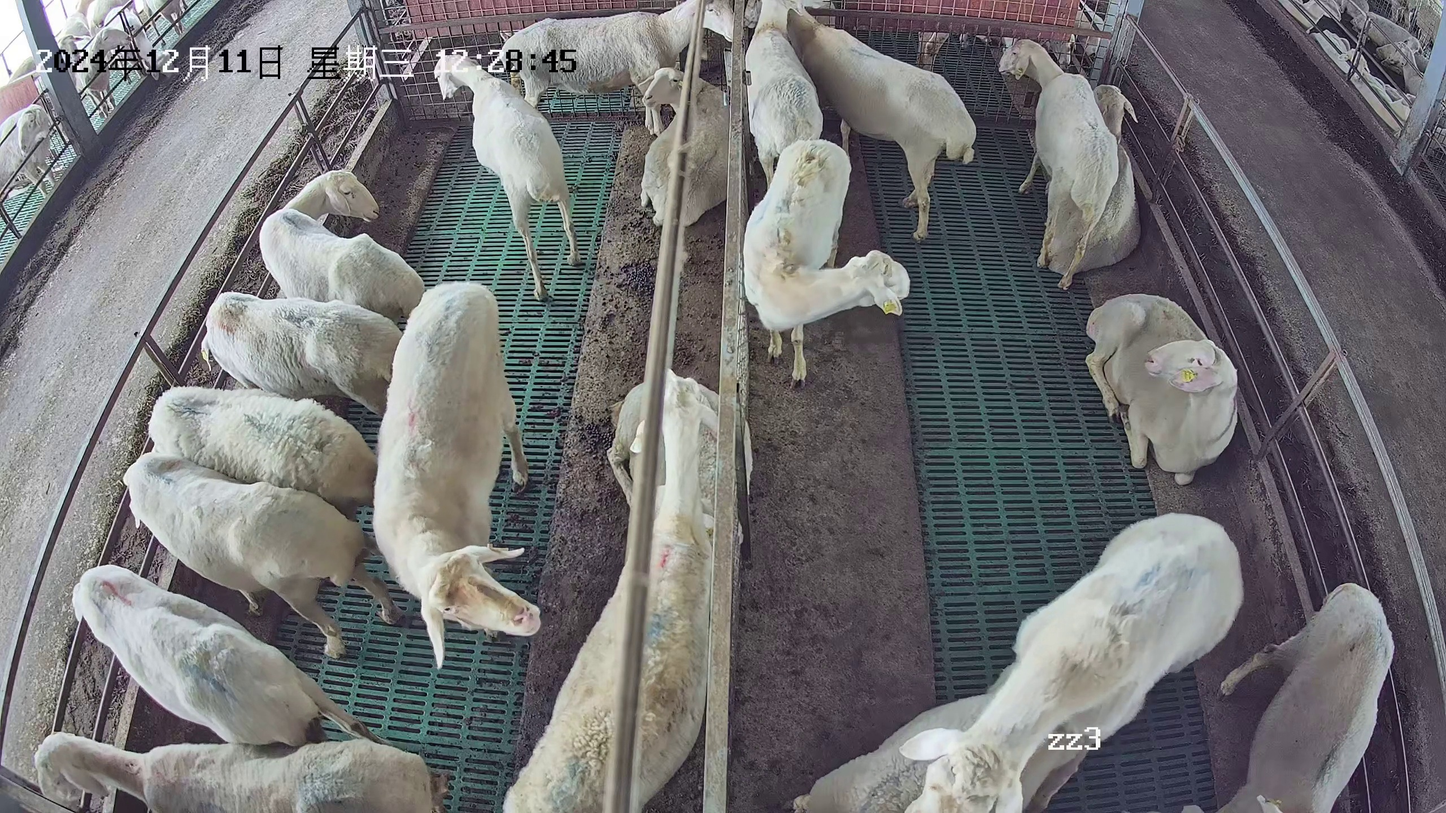Smounting: (788, 512, 1246, 813)
mounted: (791, 690, 1082, 813)
